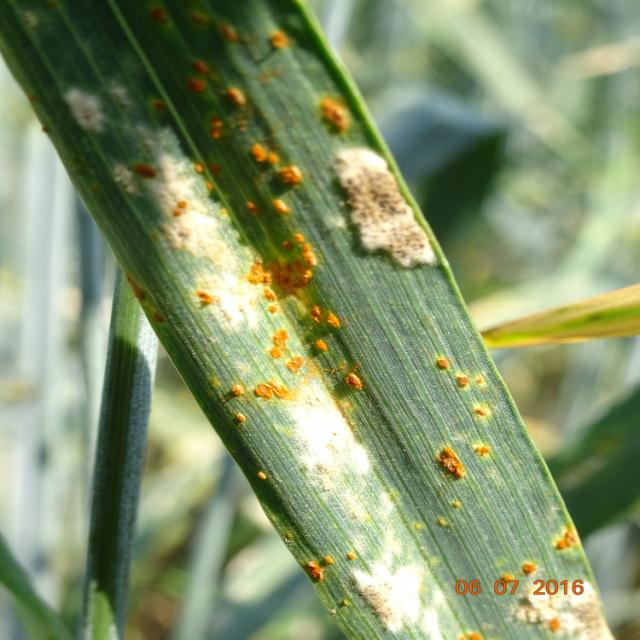wheat-powdery-mildew: (217, 310, 348, 422), (238, 235, 326, 320), (307, 96, 360, 134), (304, 547, 357, 584), (434, 445, 476, 486), (181, 284, 225, 316), (264, 23, 303, 55), (548, 521, 585, 553), (203, 117, 233, 152), (271, 163, 307, 192), (188, 60, 217, 95), (243, 144, 279, 172), (223, 79, 255, 110), (162, 201, 203, 224), (129, 163, 165, 188), (144, 10, 176, 37), (236, 197, 266, 224), (214, 24, 245, 50), (266, 196, 297, 221), (342, 372, 368, 399), (451, 375, 476, 397), (184, 11, 214, 29), (430, 357, 458, 376), (146, 98, 177, 115), (187, 161, 212, 180), (471, 404, 495, 422), (208, 165, 229, 182), (514, 561, 543, 573)
